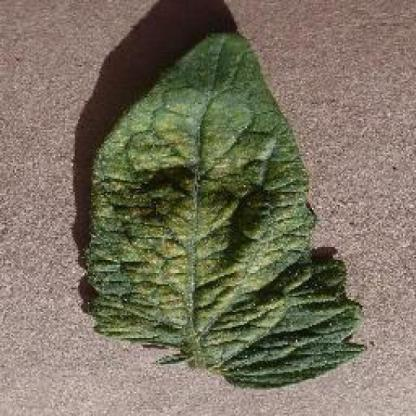Tomato_Spider_Mites: (87, 35, 365, 387)
